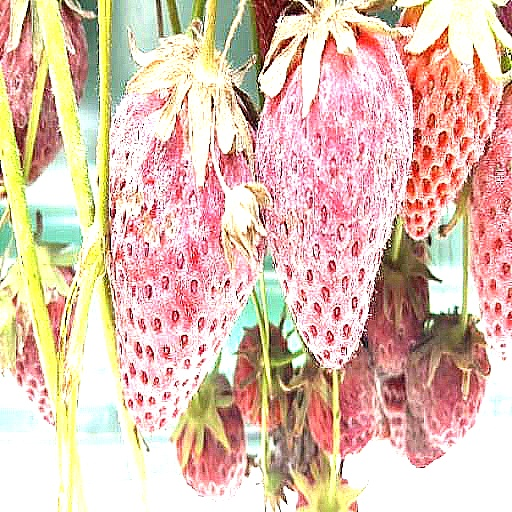Powdery Mildew Fruit: (98, 29, 268, 434), (254, 8, 412, 371), (394, 0, 507, 240), (467, 75, 511, 361)
